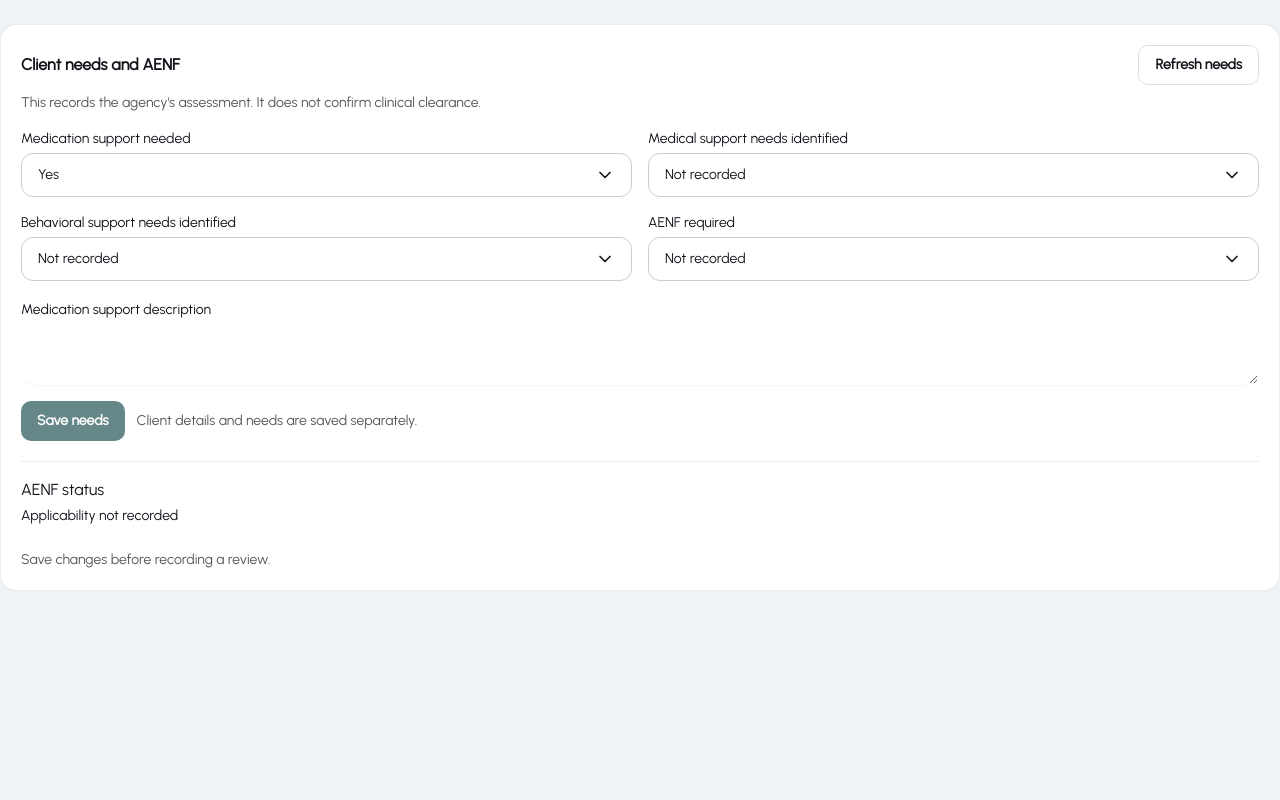
Test: client needs › starts unknown and submits the loaded revision without a second read
The width and height of the screenshot is (1280, 800).
Earlier steps of the test are not shown.
Expected: the button "Save needs" is disabled, [21, 401, 125, 441]
In the text box labelled "Medication support description": (640, 353) [21, 321, 1259, 385], type "Help with prescribed medication"
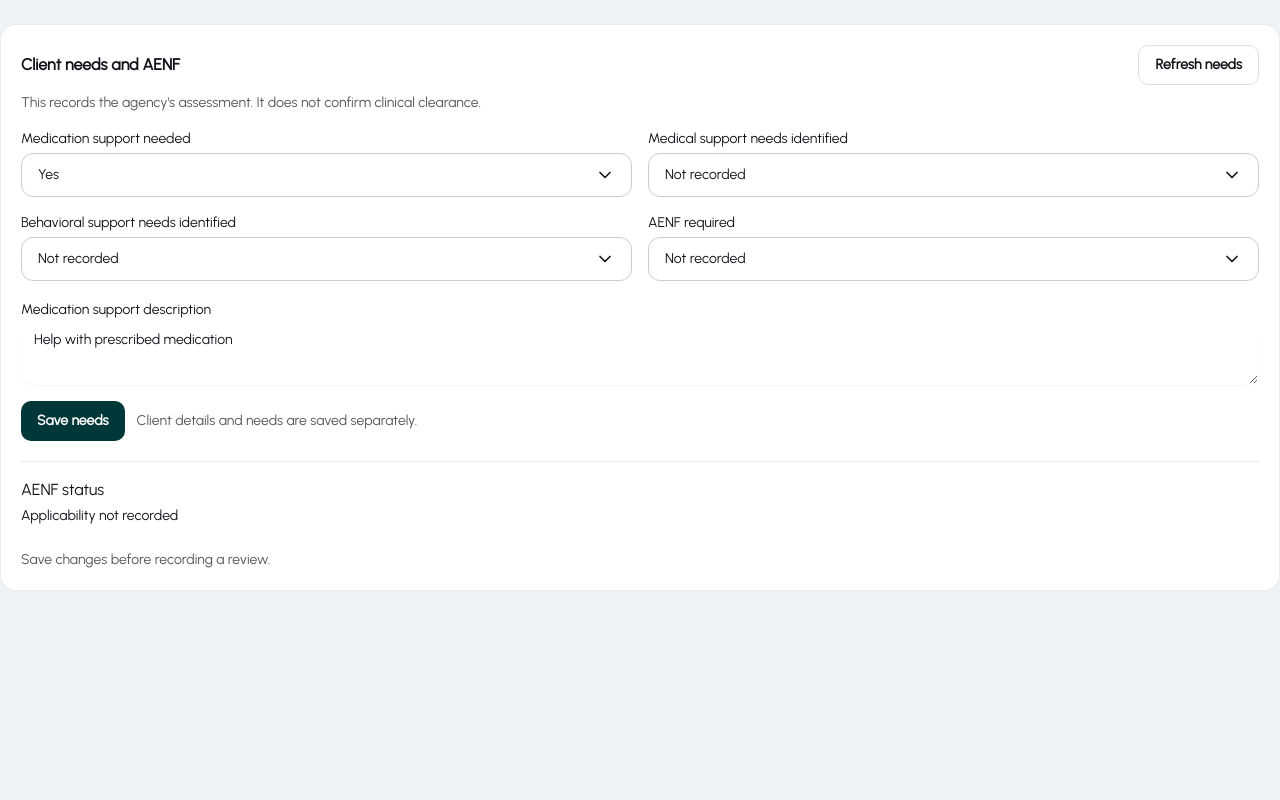
Click the button "Save needs": (73, 421) [21, 401, 125, 441]
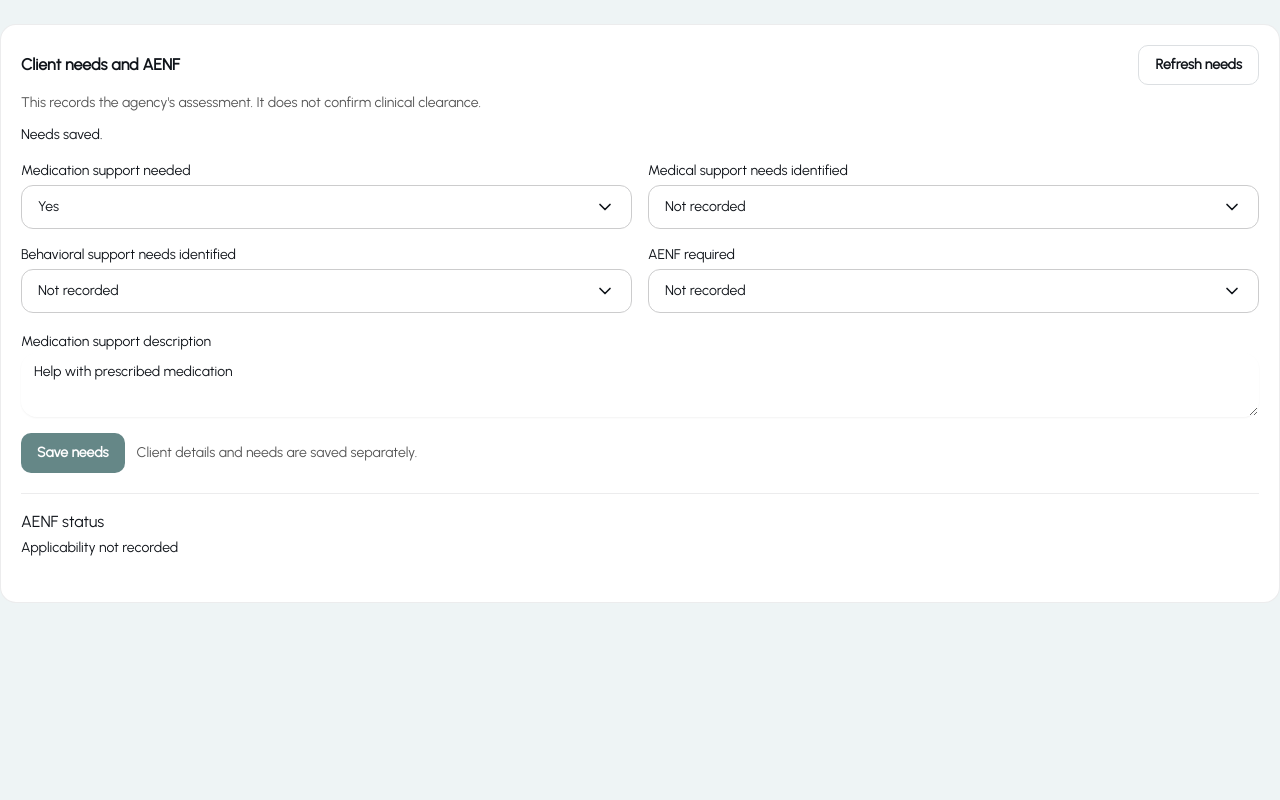
Now the text "Needs saved." is shown, box [21, 126, 102, 143]
